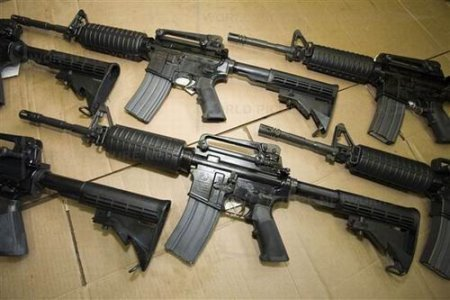rifle: (7, 115, 387, 270), (216, 30, 442, 114), (10, 9, 235, 63)
